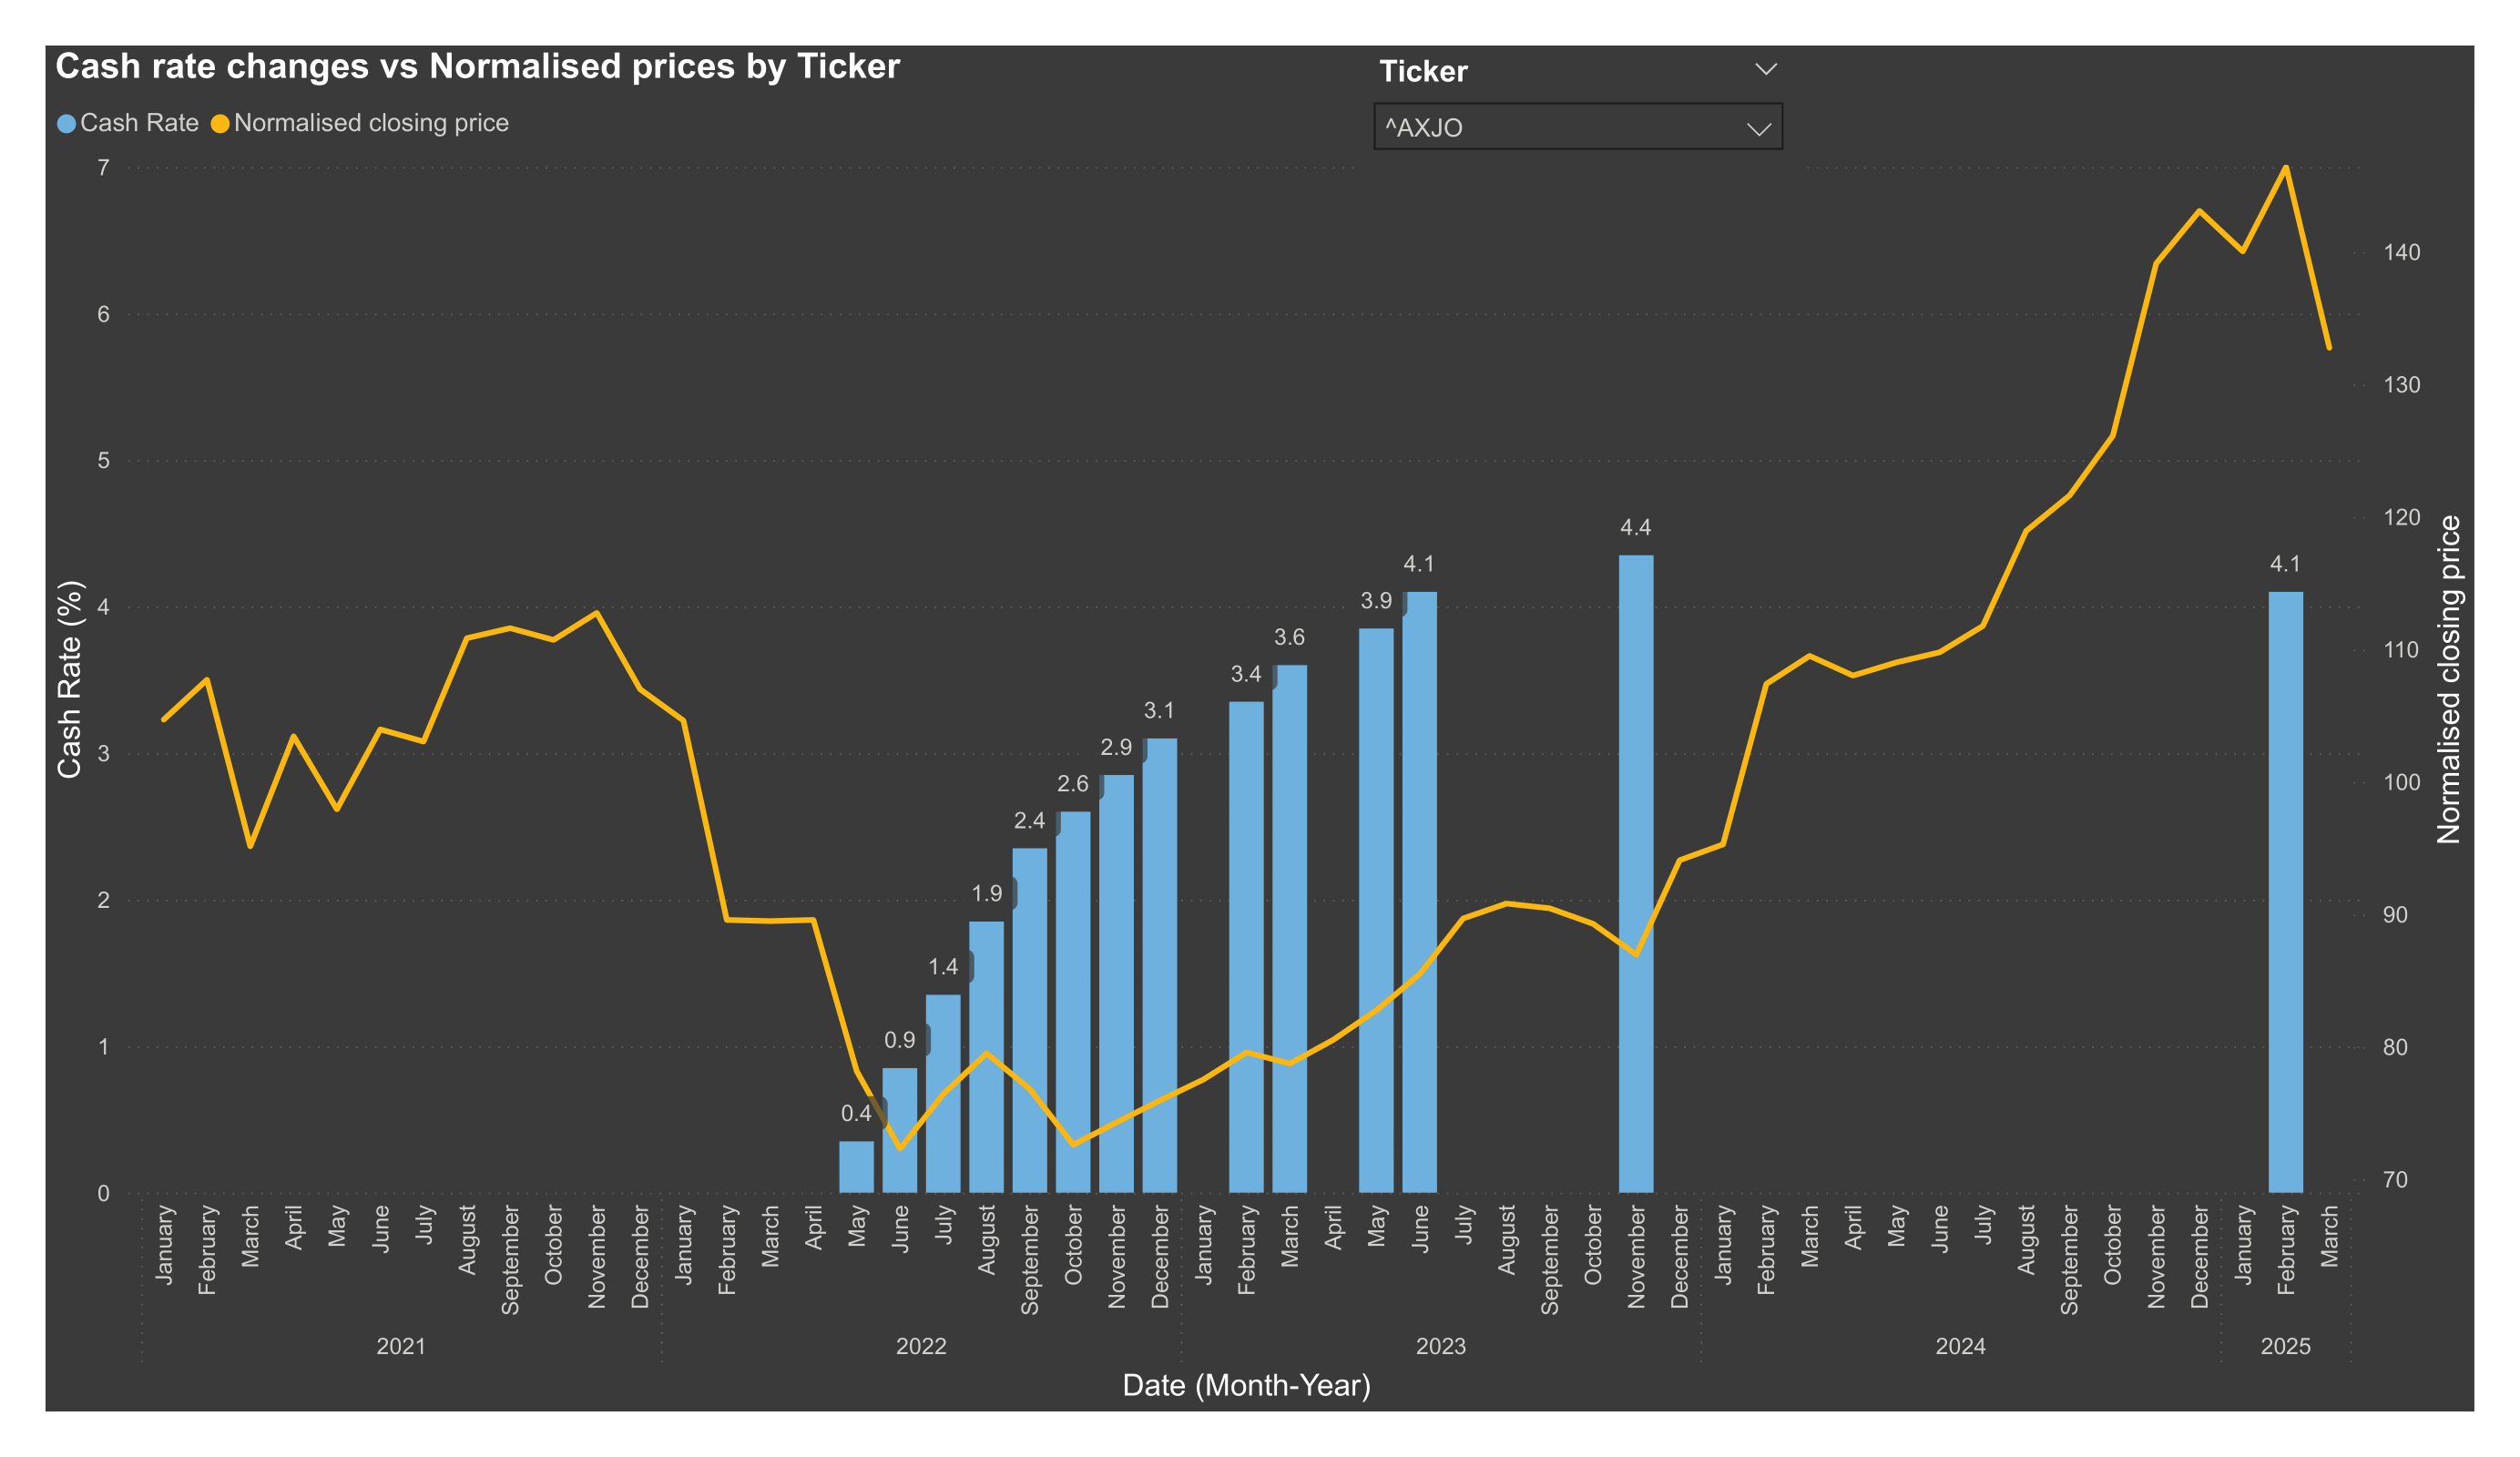

What the dashboard file says about the page in this screenshot:
{"tool":"powerbi","page":{"name":"Clustered chart — Cash rate vs Prices","canvas":[1280,720],"ordinal":10},"visuals":[{"type":"lineClusteredColumnComboChart","title":"Cash rate changes vs Normalised prices by Ticker","fields":{"Y":["Max(RBA_Rate_Changes.Cash_Rate)"],"Y2":["Max(Daily Data.Normalized_Close)"],"Category":["DateTable.Date.Variation.Date Hierarchy.Year","DateTable.Date.Variation.Date Hierarchy.Month"]},"box":[0,0,1280,720],"z":0,"group":"g1"},{"type":"slicer","fields":{"Values":["Daily Data.Ticker"]},"box":[690,0,235.6,67.8],"z":1000,"group":"g1"},{"type":"group","id":"g1","title":"Group 1","box":[0,0,1280,720],"z":1001}]}

Visuals, with their boxes on the page's 1280x720 design canvas (x1, y1, x2, y2). These are canvas units, not pixel positions in the 2520x1457 screenshot, which may show the page scaled, cropped or inside an application window:
"Cash rate changes vs Normalised prices by Ticker" lineClusteredColumnComboChart: left=0, top=0, right=1280, bottom=720
slicer - Daily Data.Ticker: left=690, top=0, right=926, bottom=68
"Group 1" group: left=0, top=0, right=1280, bottom=720
